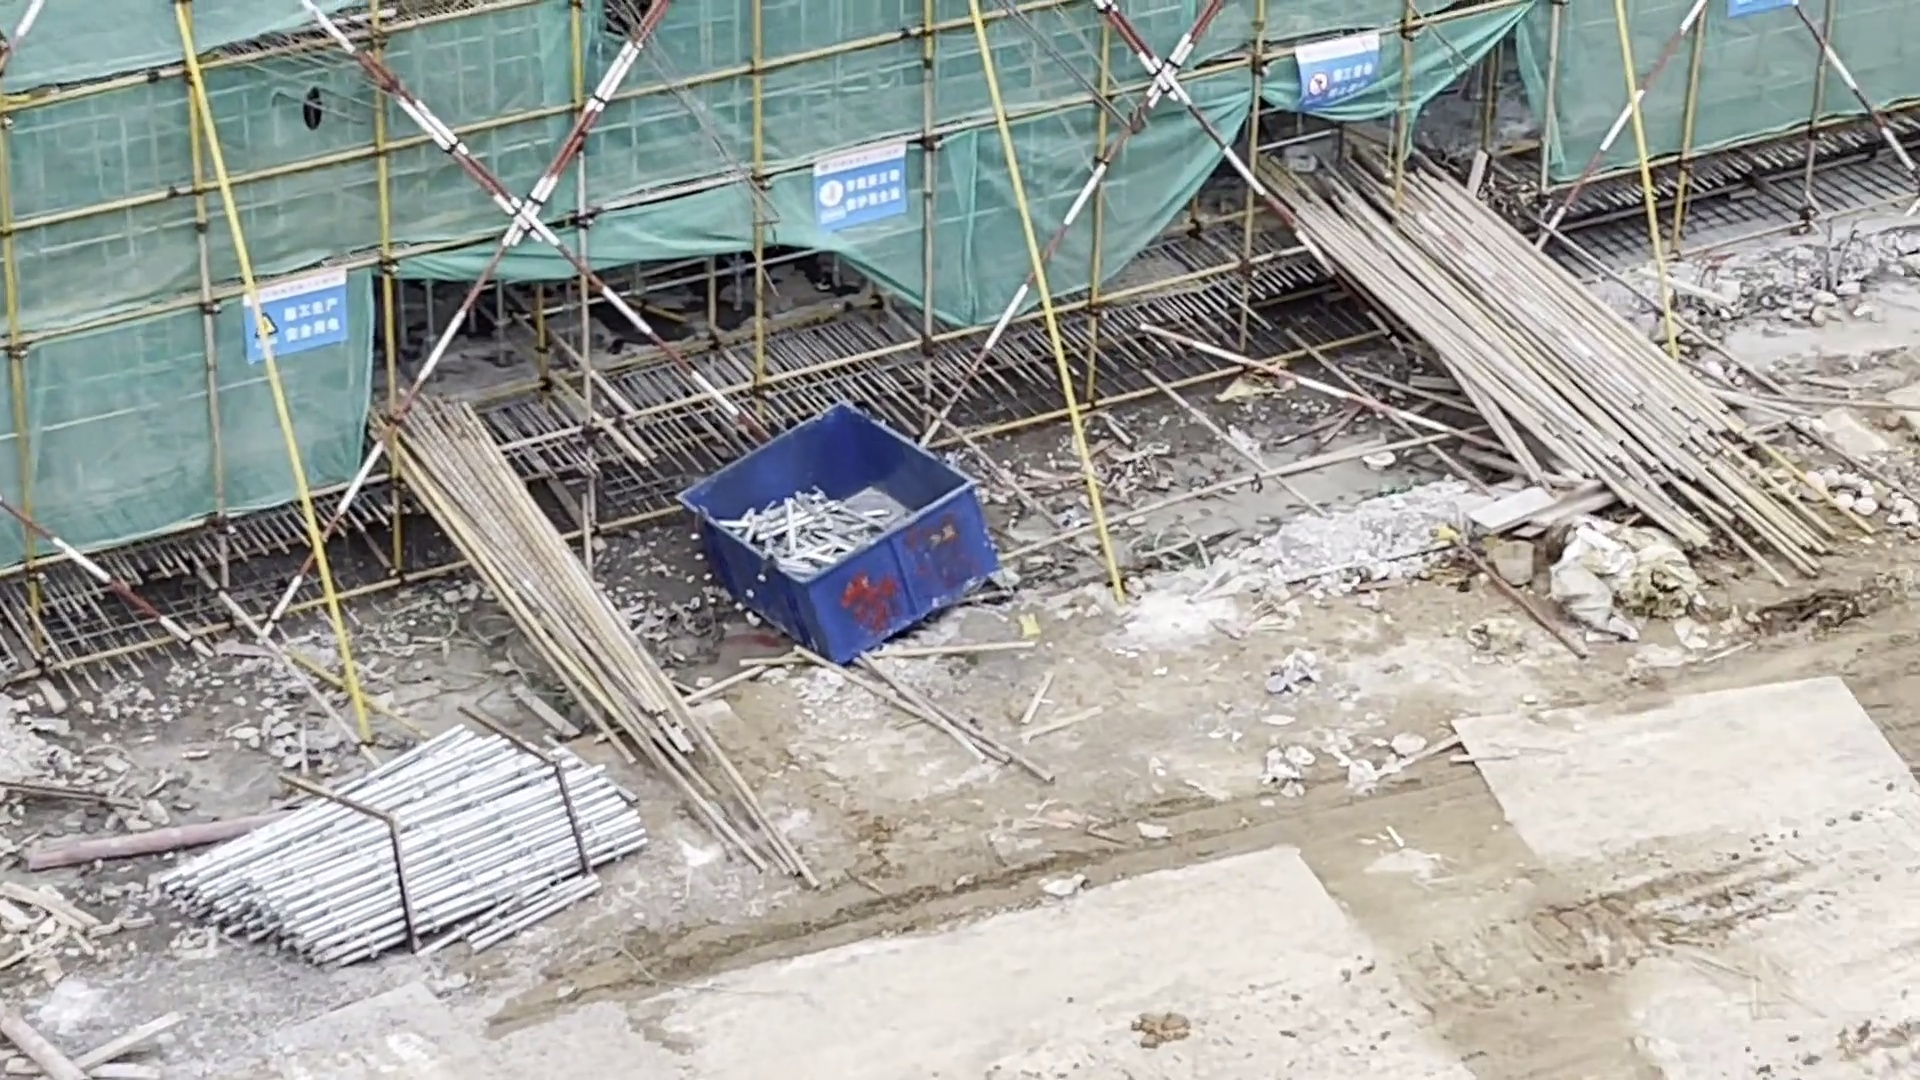hopper: (669, 392, 1007, 673)
scaffold: (164, 719, 645, 980)
